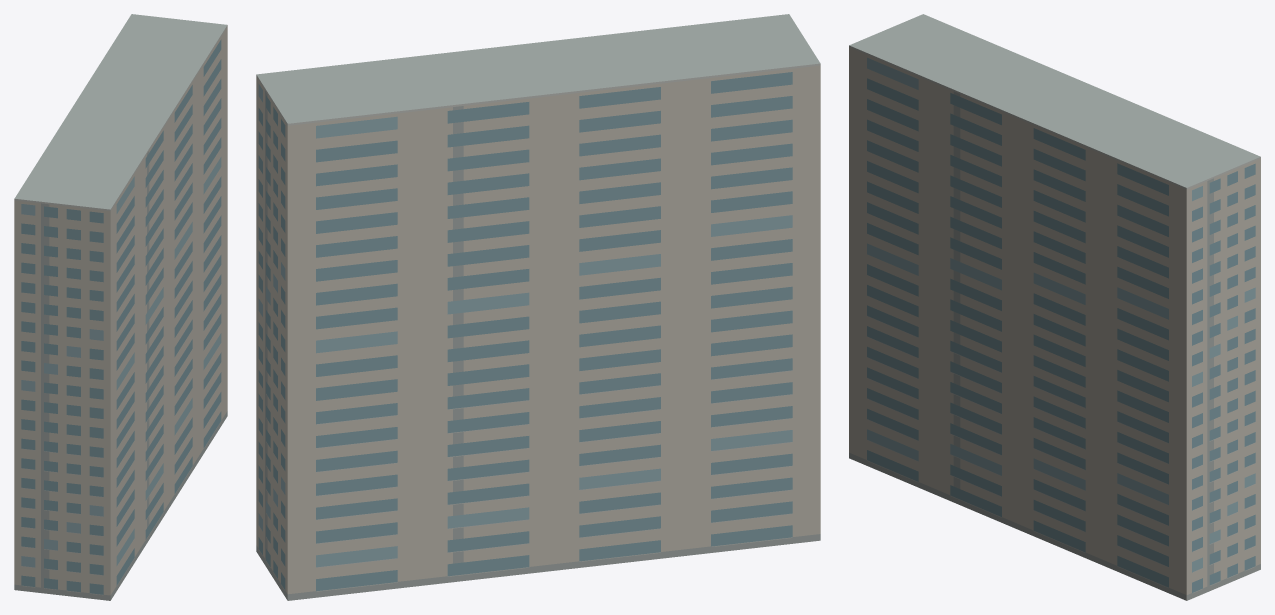
File: residential-792fb20f-619a-41fb-a345-ce3dcc9cb305.glb
The picture shows the model from 3 angles, left to right: view 1: azimuth 30°, elevation 25°; view 2: azimuth 150°, elevation 25°; view 3: azimuth 270°, elevation 25°; orthographic projection. The views are drawn at different scales.
Visible parts, largest first — view 1: residential-792fb20f-619a-41fb-a345-ce3dcc9cb305.tmp; view 2: residential-792fb20f-619a-41fb-a345-ce3dcc9cb305.tmp; view 3: residential-792fb20f-619a-41fb-a345-ce3dcc9cb305.tmp.
Part boxes in pixels (box(x1,y1,x2,y2)): residential-792fb20f-619a-41fb-a345-ce3dcc9cb305.tmp: box(14, 14, 227, 600); residential-792fb20f-619a-41fb-a345-ce3dcc9cb305.tmp: box(256, 14, 820, 600); residential-792fb20f-619a-41fb-a345-ce3dcc9cb305.tmp: box(849, 14, 1260, 600).
Size of the model in its own units: 52.43 by 58 by 52.43.
